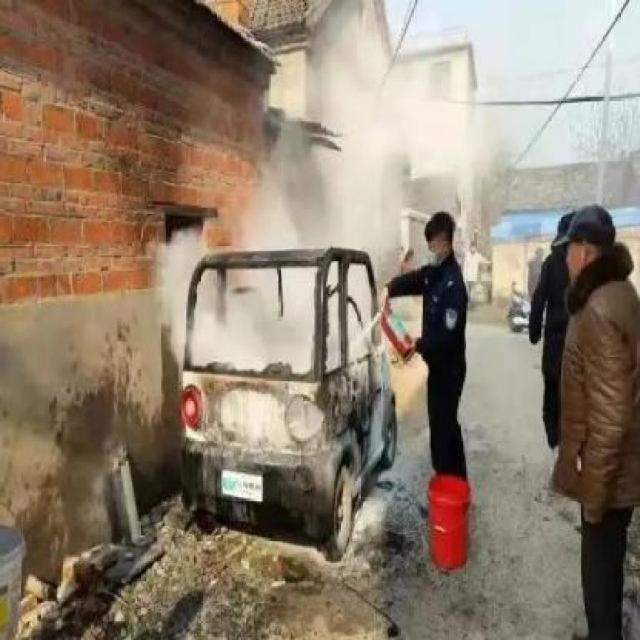Smoke: (316, 37, 387, 351), (156, 230, 262, 375)
